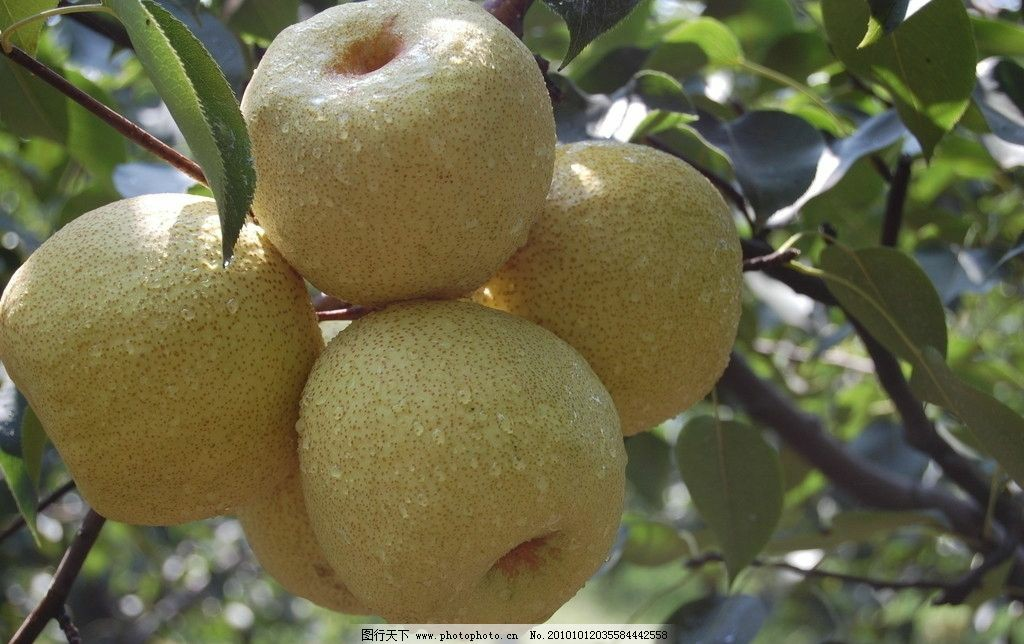pear: (298, 306, 627, 621), (1, 192, 314, 523), (239, 1, 554, 297), (465, 139, 745, 434)
